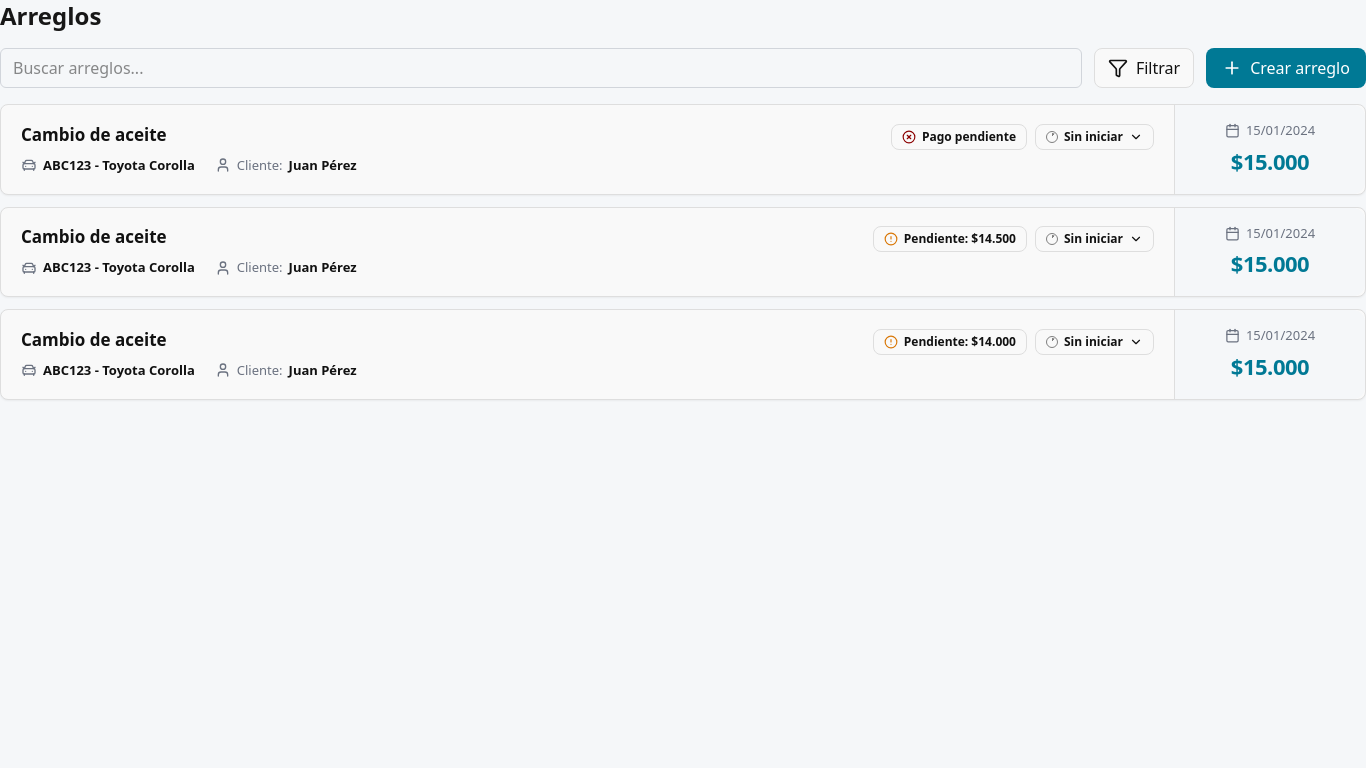
ArreglosPage › ofrece el selector de estado de pago junto al estado y filtra los parciales
The width and height of the screenshot is (1366, 768).
Click the button with test id "arreglos-open-filters". click: click(1144, 68)
box: left=1094, top=48, right=1194, bottom=88
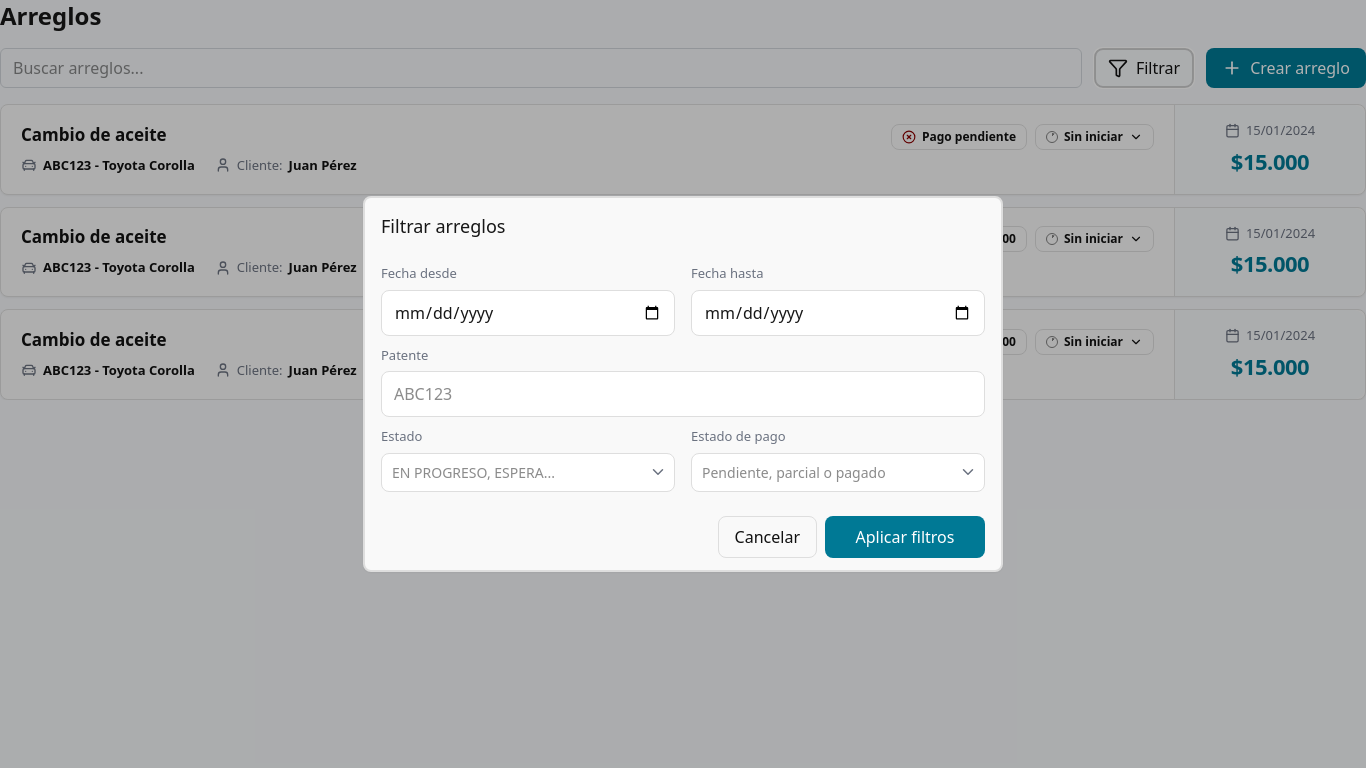
Now the dialog with test id "modal-overlay" is shown
Clear the field with test id "arreglos-filter-patente". click: (683, 394)
box: left=381, top=371, right=985, bottom=417
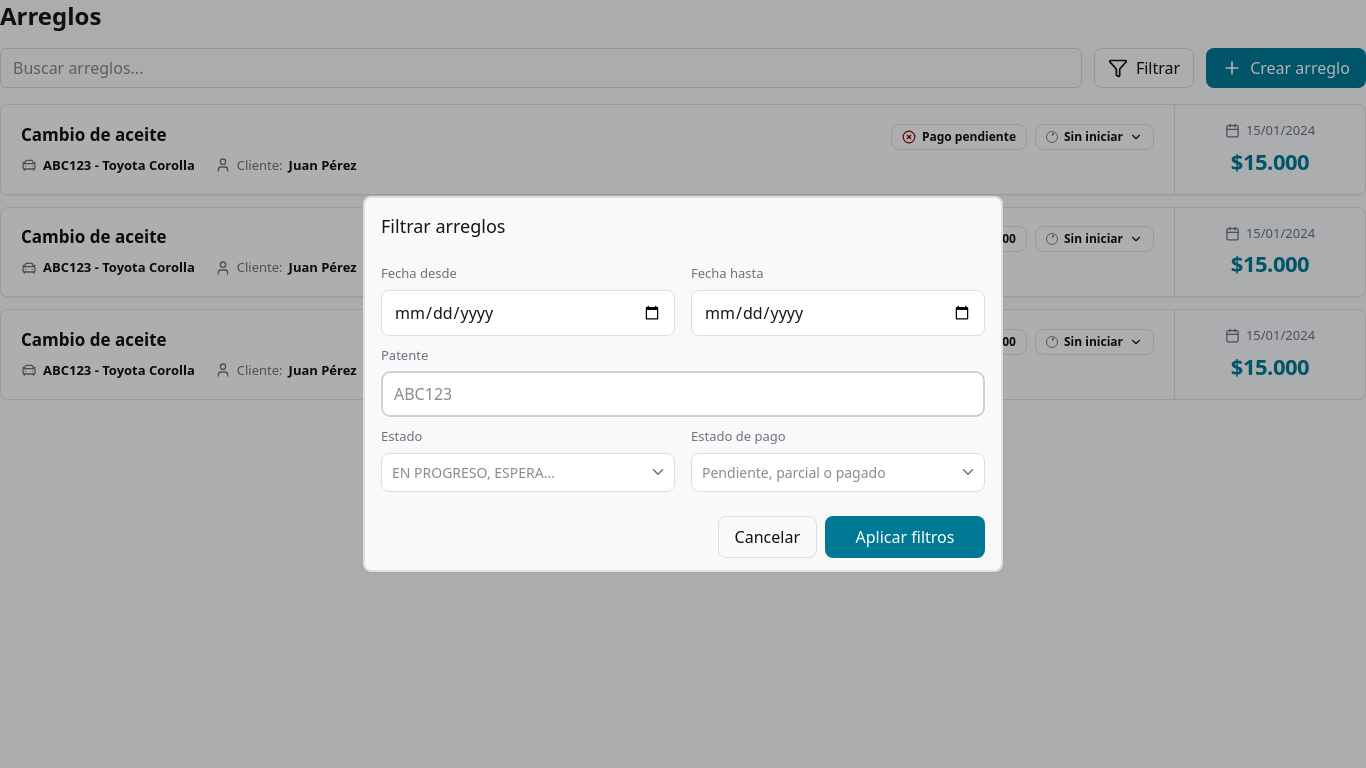
Click the field with test id "arreglos-filter-estado-pago". click: click(838, 472)
box: left=691, top=453, right=985, bottom=492
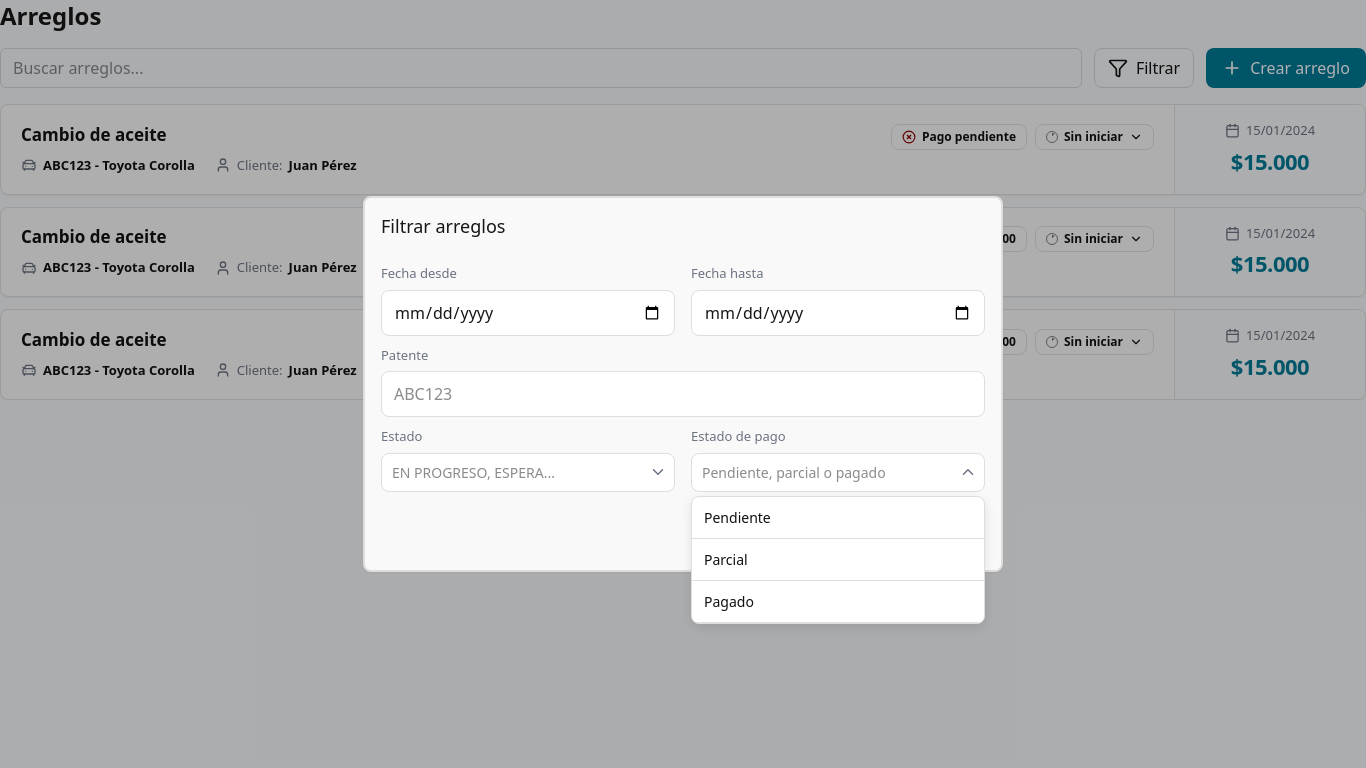
Click the text "Parcial". click: click(726, 559)
box: left=704, top=549, right=748, bottom=570
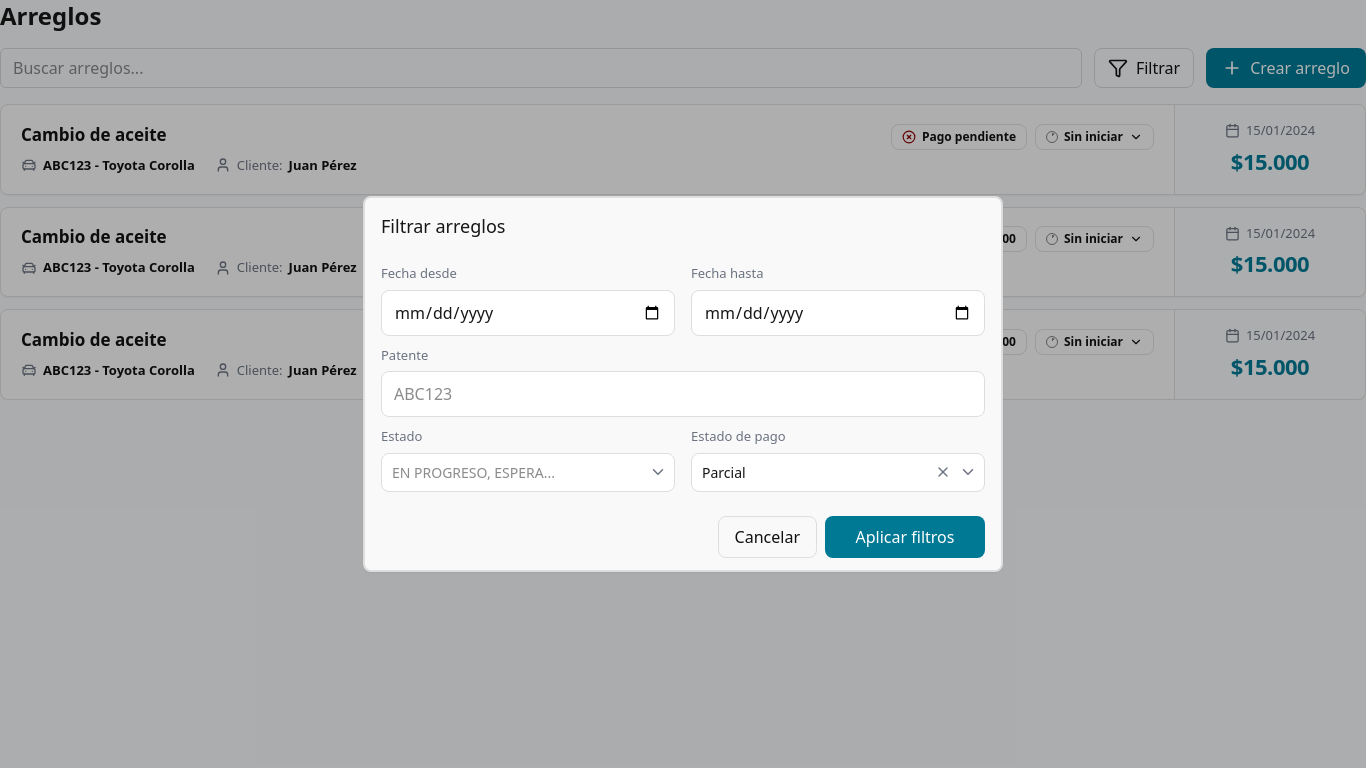
Click the button with test id "modal-submit". click: click(905, 537)
box: left=825, top=516, right=985, bottom=558
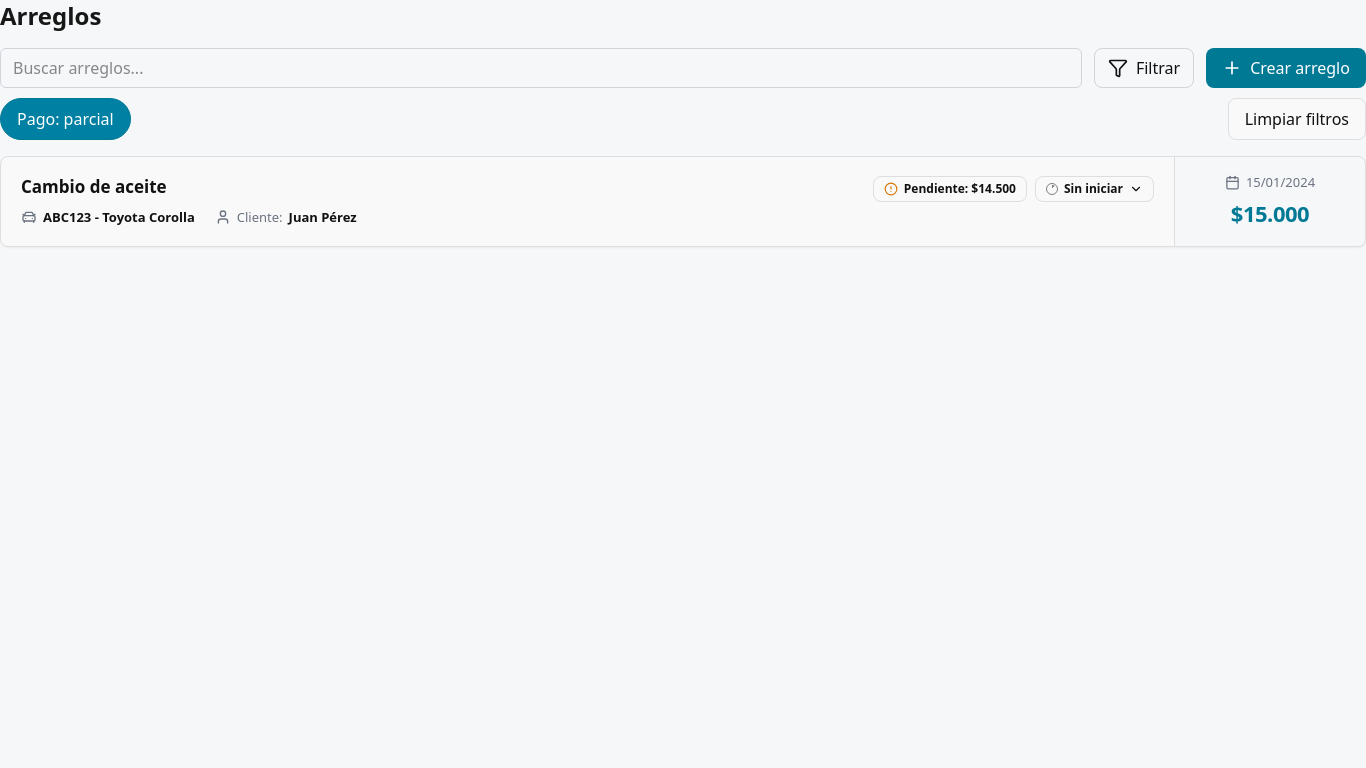
Now the dialog with test id "modal-overlay" is gone
Now the element with test id "arreglo-item-pendiente" is gone
Now the element with test id "arreglo-item-pagado" is gone
